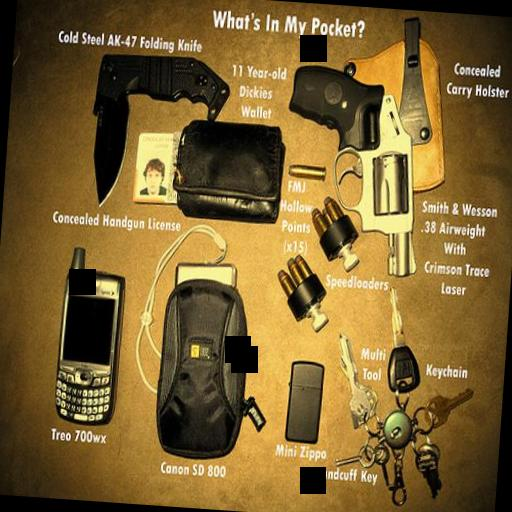Handgun: (279, 58, 428, 280)
